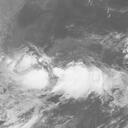cyclone: (55, 61, 102, 102)
